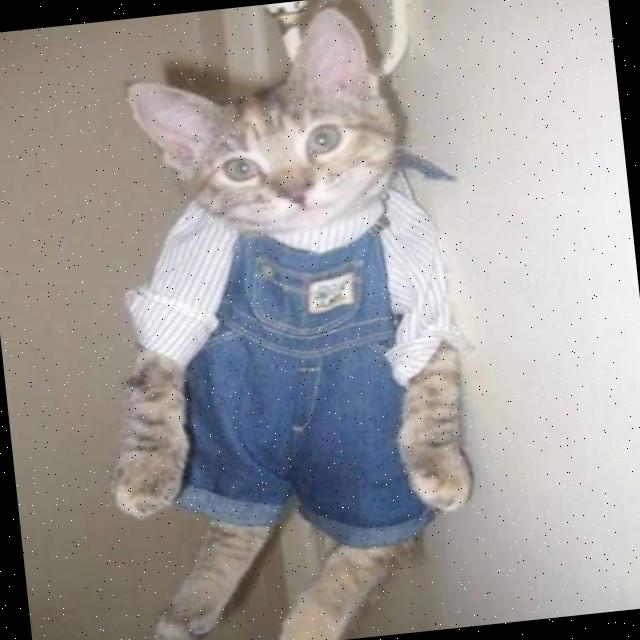cat: (45, 0, 499, 640)
